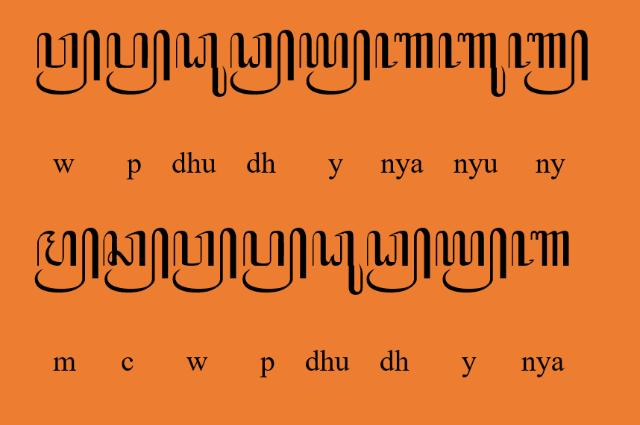-c: (103, 226, 169, 294)
-dh: (230, 28, 294, 98), (366, 228, 430, 294)
-m: (34, 228, 100, 294)
-ny: (508, 28, 590, 96)
-p: (106, 28, 170, 96), (242, 228, 306, 294)
-w: (36, 28, 102, 96), (172, 228, 236, 294)
-y: (436, 226, 506, 294), (299, 29, 371, 95)
dhu: (312, 229, 364, 296), (175, 32, 227, 98)
ny1: (511, 230, 571, 268), (374, 32, 434, 68)
nyu1: (438, 32, 506, 98)
